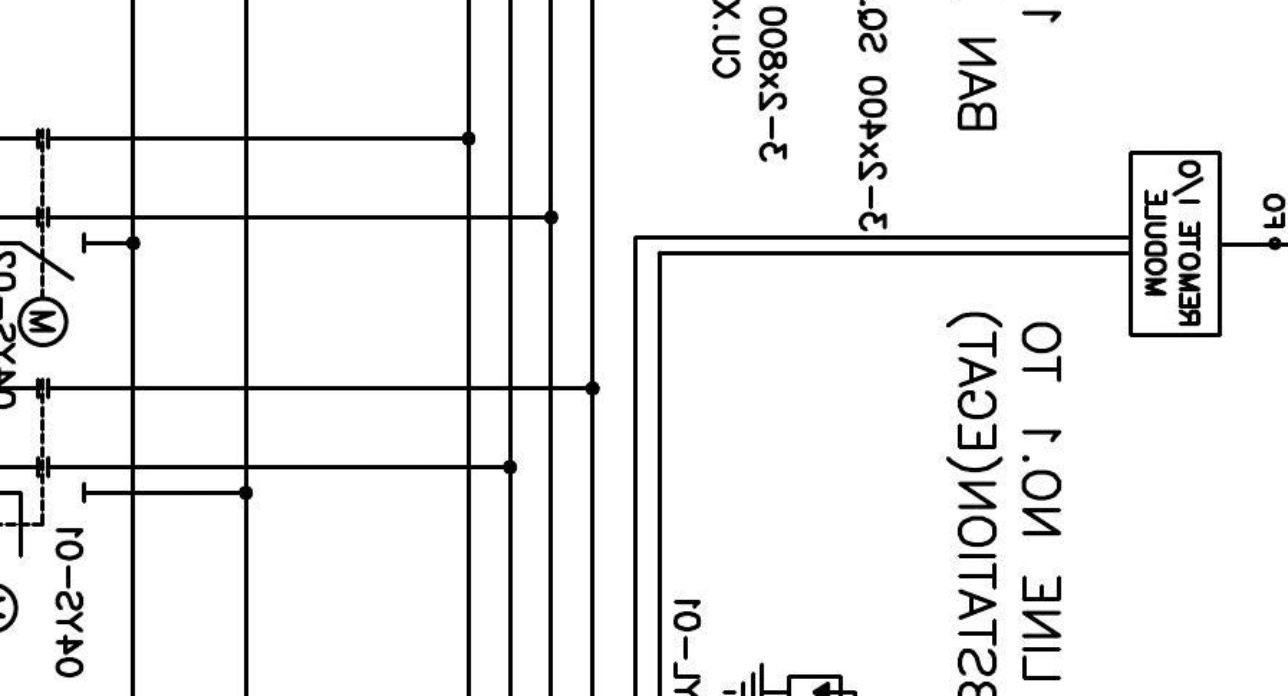115_1way_ds_w_motor: (16, 230, 87, 349)
remote_io_module: (1128, 151, 1222, 338)
